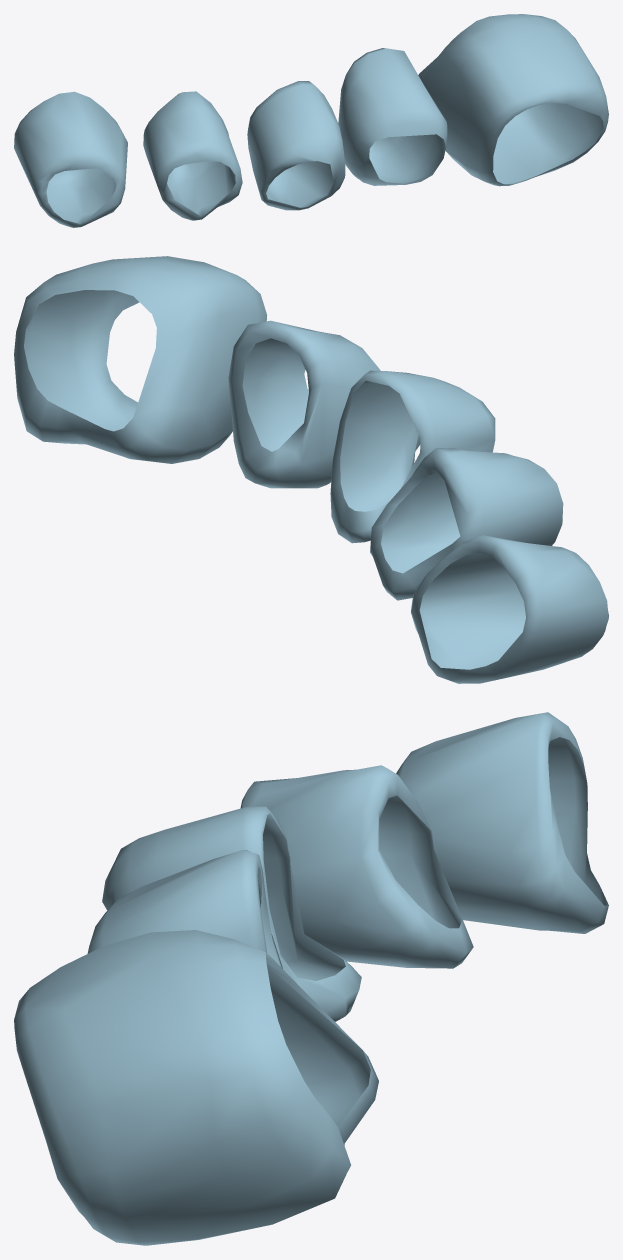
The model's file is articulacoes-articular-capsules-of-metatarsophalangeal-joints-r.glb.
The picture shows the model from 3 angles, top to bottom: view 1: azimuth 30°, elevation 25°; view 2: azimuth 150°, elevation 25°; view 3: azimuth 270°, elevation 25°; orthographic projection. The views are drawn at different scales.
Visible parts, largest first — view 1: Articular capsules of metatarsophalangeal joints.r; view 2: Articular capsules of metatarsophalangeal joints.r; view 3: Articular capsules of metatarsophalangeal joints.r.
Part boxes in pixels (<box>): Articular capsules of metatarsophalangeal joints.r: <box>14,14,608,227</box>; Articular capsules of metatarsophalangeal joints.r: <box>14,256,608,683</box>; Articular capsules of metatarsophalangeal joints.r: <box>14,712,608,1245</box>.
Size of the model in its own units: 0.0808 by 0.0247 by 0.0454.
